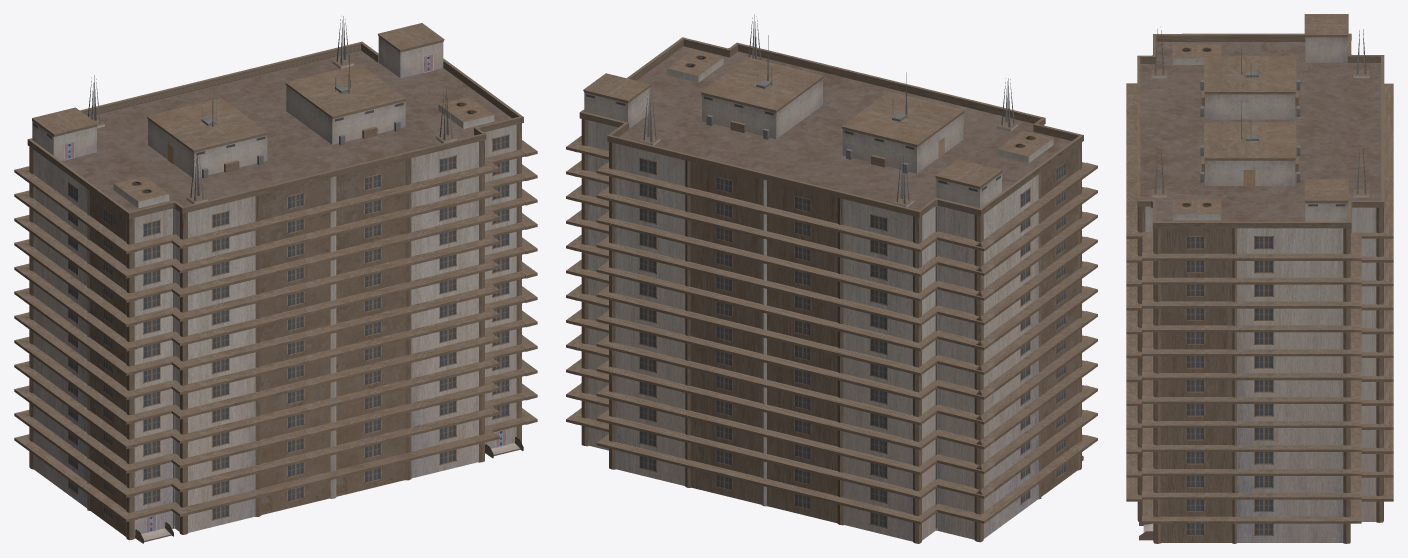
The model's file is ORB_5_Combi_12_Detail_2.fbx.
3 views of the same model, side by side, from view 1: azimuth 30°, elevation 25°; view 2: azimuth 150°, elevation 25°; view 3: azimuth 270°, elevation 25° (orthographic). The views are drawn at different scales.
Parts seen in each view (by area): view 1: ORB_5_Combi_12_Detail_2; view 2: ORB_5_Combi_12_Detail_2; view 3: ORB_5_Combi_12_Detail_2.
Boxes of the visible parts, x1,y1,x2,y2 form: ORB_5_Combi_12_Detail_2: [14, 16, 537, 543]; ORB_5_Combi_12_Detail_2: [566, 14, 1097, 543]; ORB_5_Combi_12_Detail_2: [1126, 14, 1393, 543].
Bounding box in the file's own units: 4663 × 4274 × 2676.
